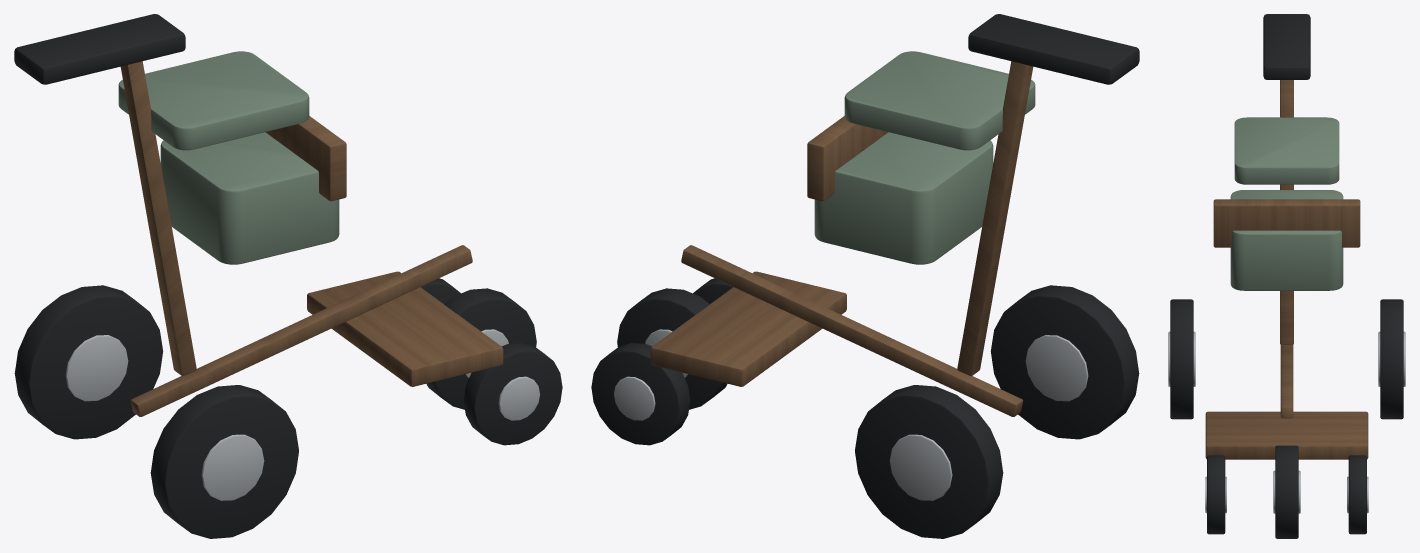
File: push_cart_high_end.glb
The picture shows the model from 3 angles, left to right: view 1: azimuth 30°, elevation 25°; view 2: azimuth 150°, elevation 25°; view 3: azimuth 270°, elevation 25°; orthographic projection. The views are drawn at different scales.
Visible parts, largest first — view 1: PushCart_StorageConsole, PushCart_Rear_L_Tire, PushCart_Rear_R_Tire, PushCart_ScorecardTray, PushCart_BagRestLower, PushCart_LowerFrame, PushCart_HandleStem, PushCart_Handle, PushCart_Front_L_Tire, PushCart_Front_Tire, PushCart_BagRestUpper, PushCart_Rear_L_Hub (+2 smaller); view 2: PushCart_StorageConsole, PushCart_Rear_R_Tire, PushCart_Rear_L_Tire, PushCart_ScorecardTray, PushCart_BagRestLower, PushCart_LowerFrame, PushCart_HandleStem, PushCart_Handle, PushCart_Front_R_Tire, PushCart_Front_Tire, PushCart_BagRestUpper, PushCart_Rear_R_Hub (+2 smaller); view 3: PushCart_StorageConsole, PushCart_BagRestLower, PushCart_ScorecardTray, PushCart_BagRestUpper, PushCart_Handle, PushCart_Rear_L_Tire, PushCart_Rear_R_Tire, PushCart_Front_Tire, PushCart_Front_L_Tire, PushCart_Front_R_Tire, PushCart_HandleStem, PushCart_LowerFrame (+2 smaller).
Part boxes in pixels (<box>): PushCart_StorageConsole: <box>160,132,339,264</box>; PushCart_Rear_L_Tire: <box>150,385,298,538</box>; PushCart_Rear_R_Tire: <box>14,285,163,439</box>; PushCart_ScorecardTray: <box>118,51,309,150</box>; PushCart_BagRestLower: <box>307,271,503,386</box>; PushCart_LowerFrame: <box>130,245,472,416</box>; PushCart_HandleStem: <box>120,61,196,375</box>; PushCart_Handle: <box>14,14,185,84</box>; PushCart_Front_L_Tire: <box>463,343,562,445</box>; PushCart_Front_Tire: <box>426,288,536,409</box>; PushCart_BagRestUpper: <box>265,116,346,201</box>; PushCart_Rear_L_Hub: <box>201,434,264,500</box>; PushCart_StorageConsole: <box>814,132,993,264</box>; PushCart_Rear_R_Tire: <box>855,385,1003,538</box>; PushCart_Rear_L_Tire: <box>990,285,1139,439</box>; PushCart_ScorecardTray: <box>844,51,1035,150</box>; PushCart_BagRestLower: <box>650,271,846,386</box>; PushCart_LowerFrame: <box>681,245,1023,416</box>; PushCart_HandleStem: <box>957,61,1033,375</box>; PushCart_Handle: <box>968,14,1139,84</box>; PushCart_Front_R_Tire: <box>591,343,690,445</box>; PushCart_Front_Tire: <box>617,288,727,409</box>; PushCart_BagRestUpper: <box>807,116,888,201</box>; PushCart_Rear_R_Hub: <box>889,434,952,500</box>; PushCart_StorageConsole: <box>1230,190,1343,290</box>; PushCart_BagRestLower: <box>1205,411,1368,459</box>; PushCart_ScorecardTray: <box>1234,117,1339,184</box>; PushCart_BagRestUpper: <box>1213,199,1360,247</box>; PushCart_Handle: <box>1263,14,1310,79</box>; PushCart_Rear_L_Tire: <box>1170,299,1193,419</box>; PushCart_Rear_R_Tire: <box>1380,299,1403,419</box>; PushCart_Front_Tire: <box>1275,445,1298,538</box>; PushCart_Front_L_Tire: <box>1207,455,1225,534</box>; PushCart_Front_R_Tire: <box>1348,455,1366,534</box>; PushCart_HandleStem: <box>1280,80,1293,344</box>; PushCart_LowerFrame: <box>1280,345,1293,418</box>.
Size of what is drawn, in the model's own units: 1.26 by 1.1 by 0.6686.
4 materials, 1 textured.
